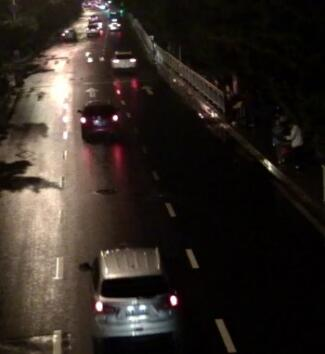car: (79, 245, 182, 346), (75, 101, 119, 135), (109, 50, 137, 72), (60, 27, 76, 41), (105, 18, 120, 32), (84, 24, 98, 36), (88, 12, 99, 23)
